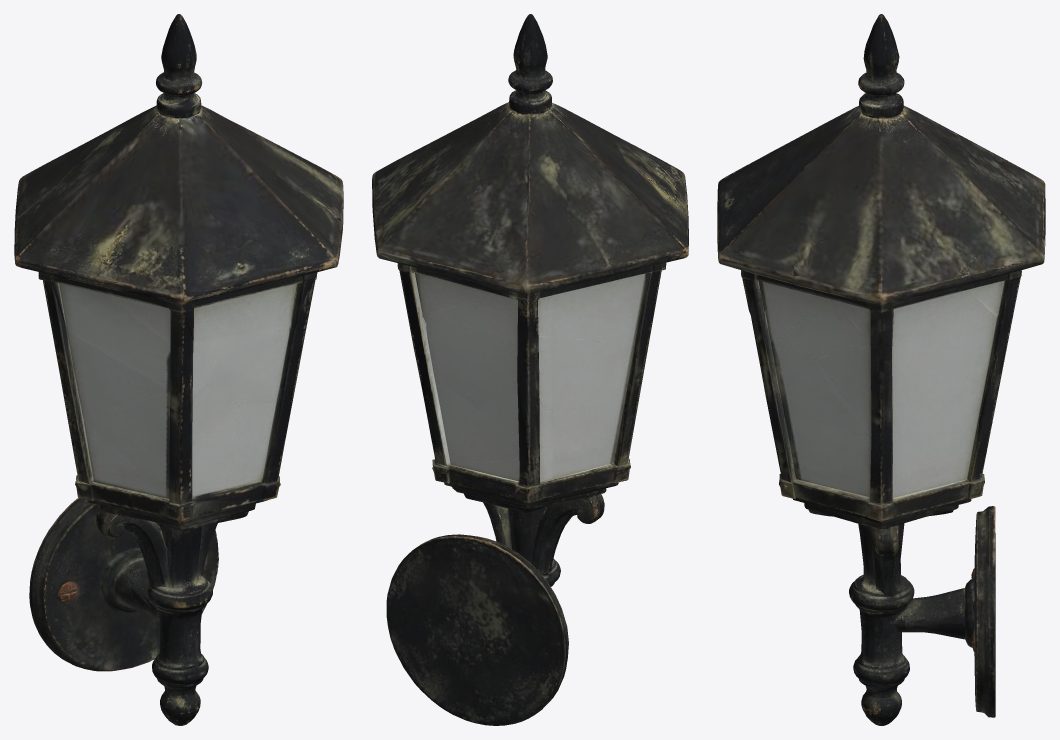
Rendered from w5walllamp.glb.
3 renders of one model, left to right at view 1: azimuth 30°, elevation 25°; view 2: azimuth 150°, elevation 25°; view 3: azimuth 270°, elevation 25°, orthographic. The views are drawn at different scales.
Parts seen in each view (by area): view 1: output_unwrapped; view 2: output_unwrapped; view 3: output_unwrapped.
Boxes of the visible parts, x1,y1,x2,y2 form: output_unwrapped: (14,14,343,725); output_unwrapped: (372,14,688,725); output_unwrapped: (717,14,1045,725).
Bounding box in the file's own units: 0.1685 × 0.35 × 0.1468.
1 material, 1 textured.
